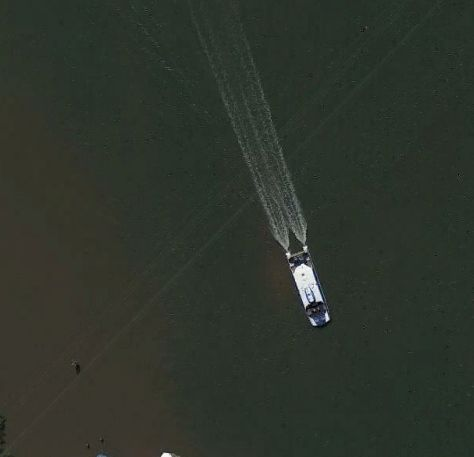boat: (283, 243, 331, 328)
